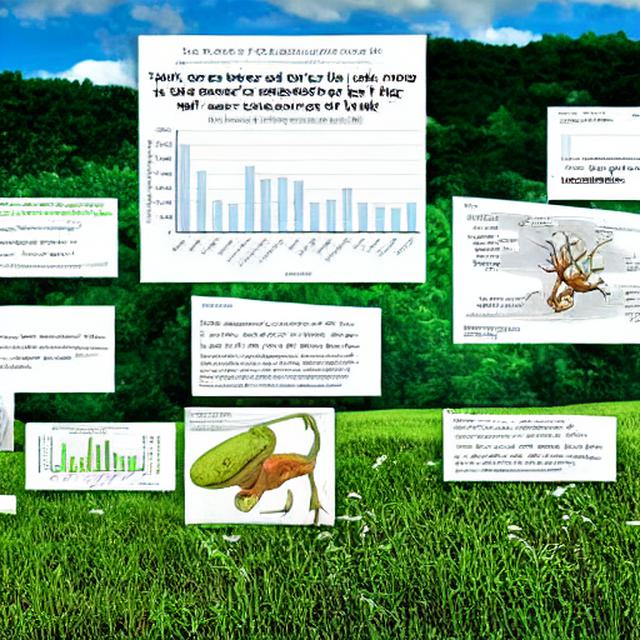Graph: (143, 115, 424, 279), (40, 425, 139, 487)
